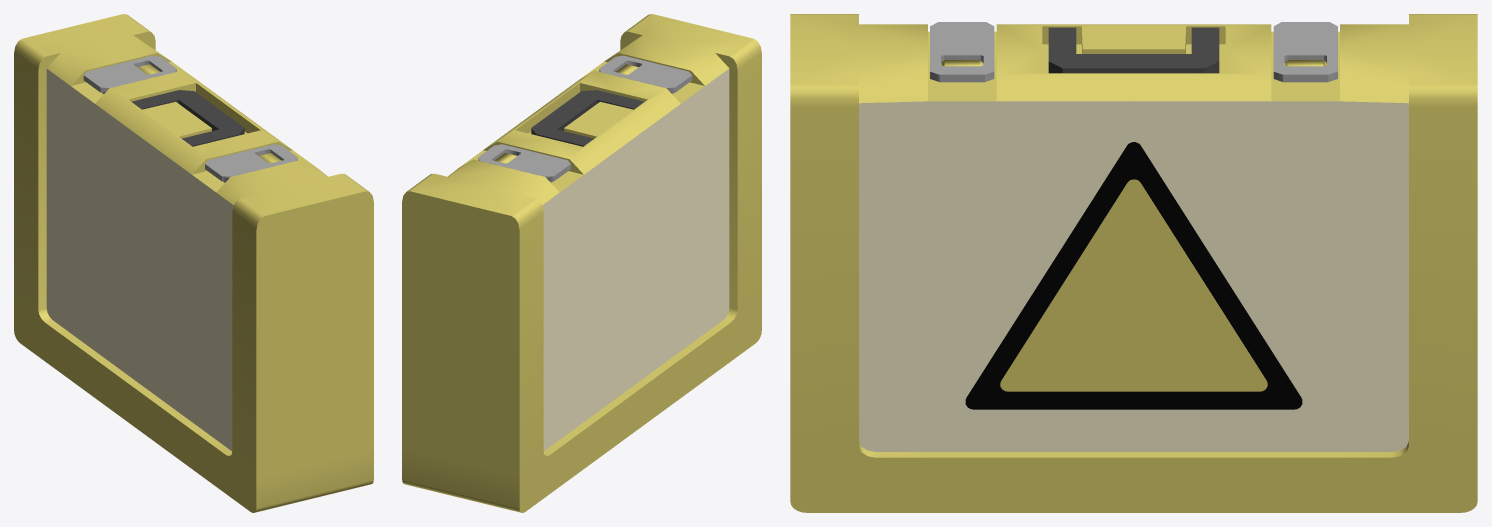
The model's file is Probe_Case.fbx.
3 renders of one model, left to right at view 1: azimuth 30°, elevation 25°; view 2: azimuth 150°, elevation 25°; view 3: azimuth 270°, elevation 25°, orthographic. The views are drawn at different scales.
Visible parts, largest first — view 1: Bottom, Top, Griff; view 2: Bottom, Top, Griff; view 3: Top, Cylinder, Bottom, Tube, Griff.
Part boxes in pixels (x1,y1,x2,y2): Bottom: (14, 26, 314, 512); Top: (73, 14, 373, 498); Griff: (131, 90, 244, 146); Bottom: (461, 26, 761, 512); Top: (402, 14, 702, 498); Griff: (531, 90, 644, 146); Top: (790, 49, 1477, 512); Cylinder: (1000, 179, 1267, 391); Bottom: (790, 14, 1477, 82); Tube: (965, 142, 1302, 409); Griff: (1048, 27, 1219, 73).
Bounding box in the file's own units: 14.31 × 34.76 × 51.19.
